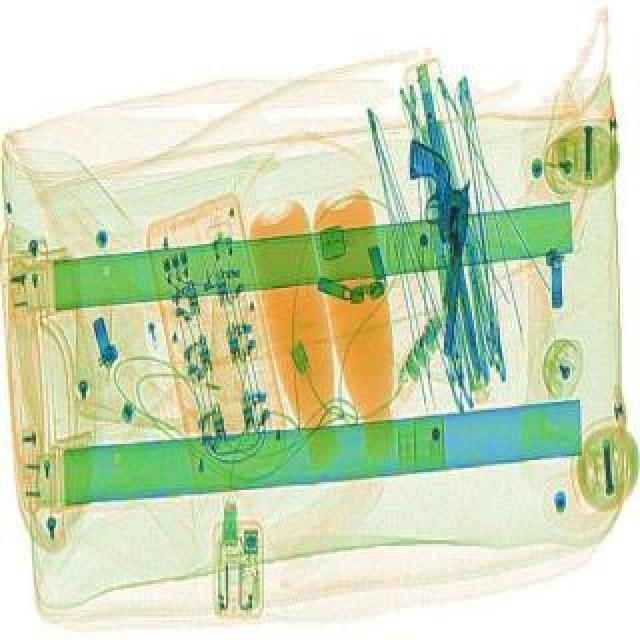gun: (384, 144, 480, 358)
